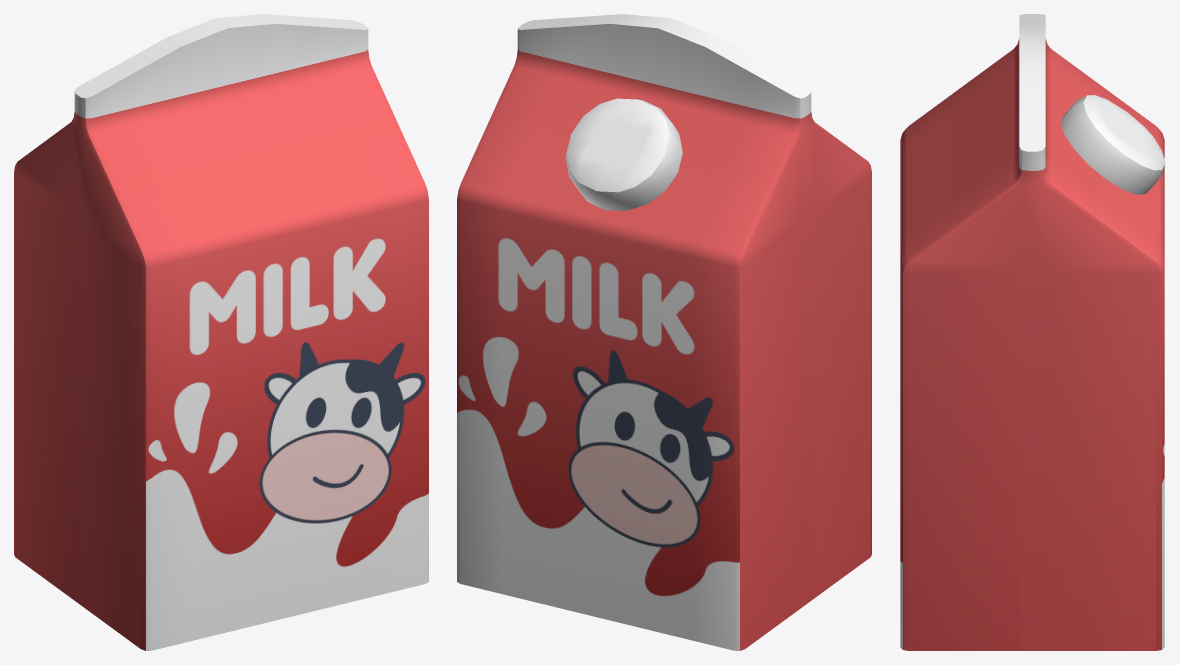
The model's file is Strawberry Milk.fbx.
3 views of the same model, side by side, from view 1: azimuth 30°, elevation 25°; view 2: azimuth 150°, elevation 25°; view 3: azimuth 270°, elevation 25° (orthographic).
Visible parts, largest first — view 1: Strawberry Milk; view 2: Strawberry Milk; view 3: Strawberry Milk.
Part boxes in pixels (x1=…): Strawberry Milk: x1=14, y1=14, x2=428, y2=650; Strawberry Milk: x1=457, y1=14, x2=871, y2=650; Strawberry Milk: x1=900, y1=14, x2=1165, y2=650.
Size of the model in its own units: 9.4 by 17.07 by 7.65.
